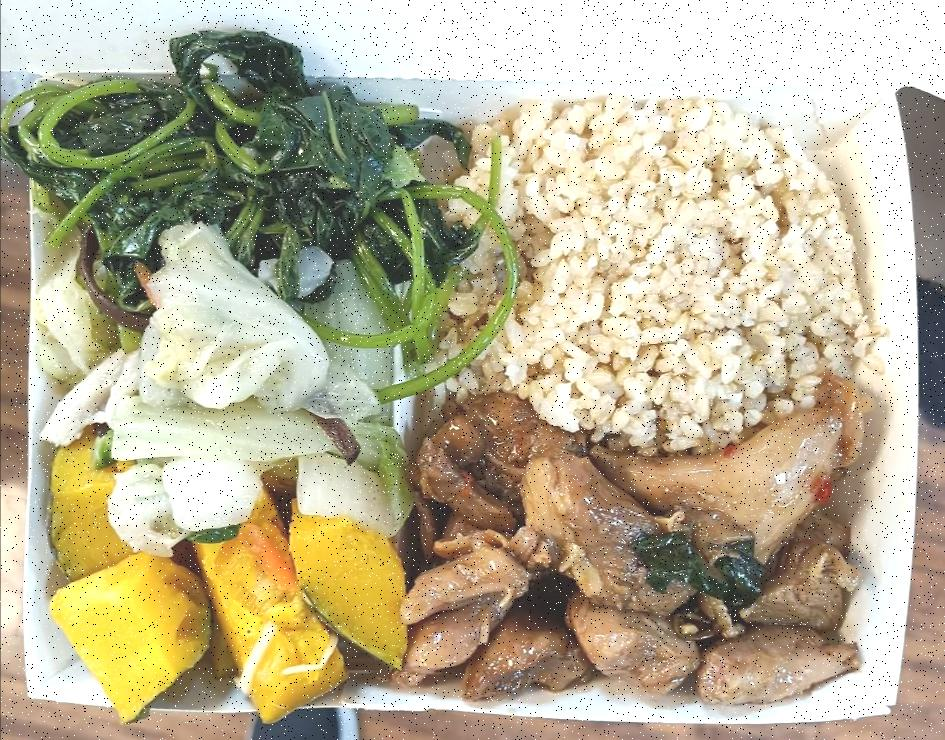box: (4, 77, 941, 721)
brown rice: (434, 96, 862, 448)
side dish: (12, 29, 444, 292), (35, 232, 414, 518), (45, 447, 403, 714)
three cup chicken: (404, 400, 883, 706)
